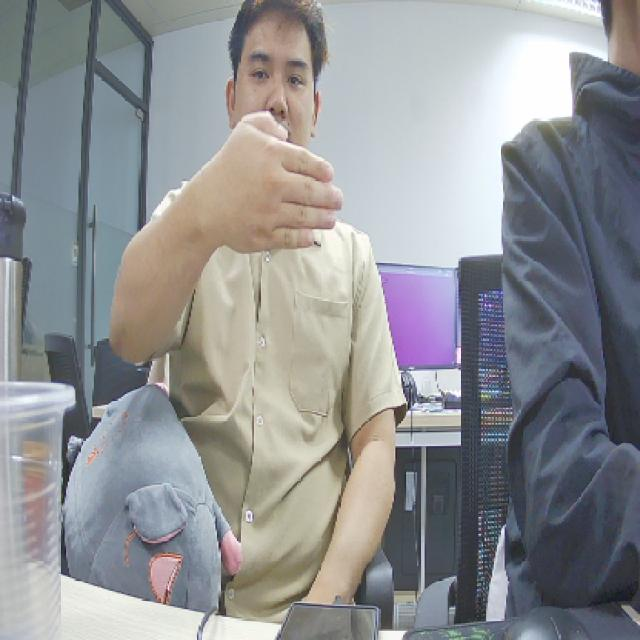7_mano_rostro: (167, 100, 339, 259)
